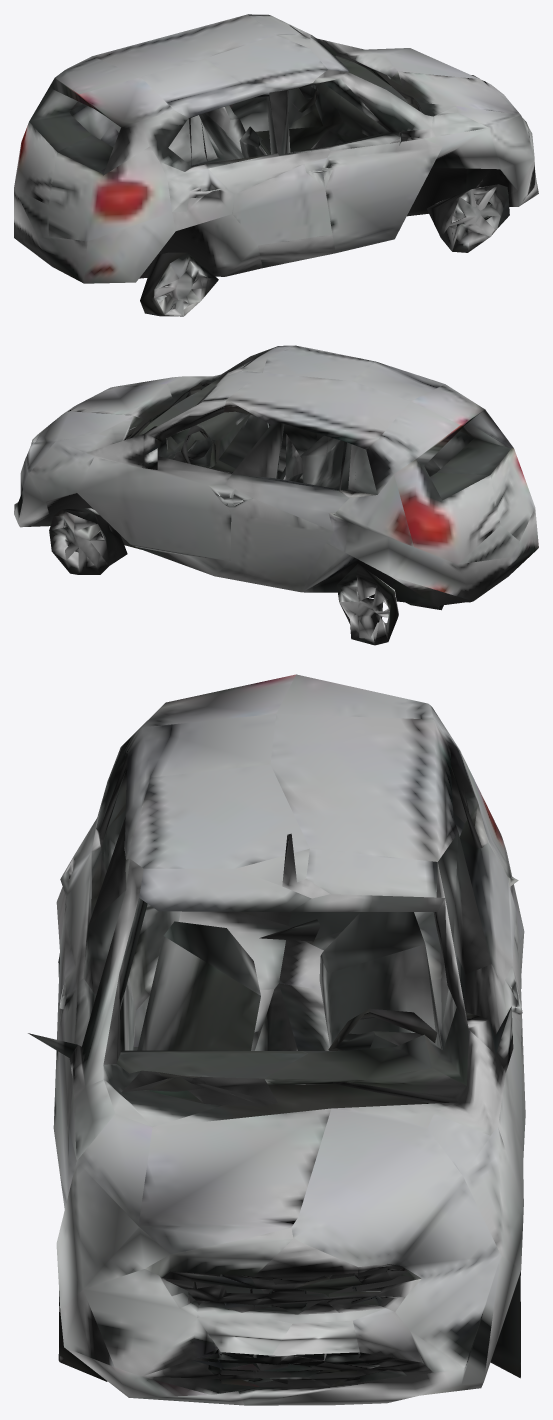
Rendered from car_2.glb.
3 views of the same model, one above another, from view 1: azimuth 30°, elevation 25°; view 2: azimuth 150°, elevation 25°; view 3: azimuth 270°, elevation 25° (orthographic). The views are drawn at different scales.
Parts seen in each view (by area): view 1: tripo_node_0b5fa6df-2f47-4c33-af6a-a03d85acd27b; view 2: tripo_node_0b5fa6df-2f47-4c33-af6a-a03d85acd27b; view 3: tripo_node_0b5fa6df-2f47-4c33-af6a-a03d85acd27b.
Part boxes in pixels (x1=…): tripo_node_0b5fa6df-2f47-4c33-af6a-a03d85acd27b: x1=14, y1=14, x2=538, y2=316; tripo_node_0b5fa6df-2f47-4c33-af6a-a03d85acd27b: x1=14, y1=345, x2=538, y2=645; tripo_node_0b5fa6df-2f47-4c33-af6a-a03d85acd27b: x1=28, y1=674, x2=525, y2=1405.
Bounding box in the file's own units: 0.9921 × 0.4289 × 0.464.
Materials: 1 (1 with a texture image).
